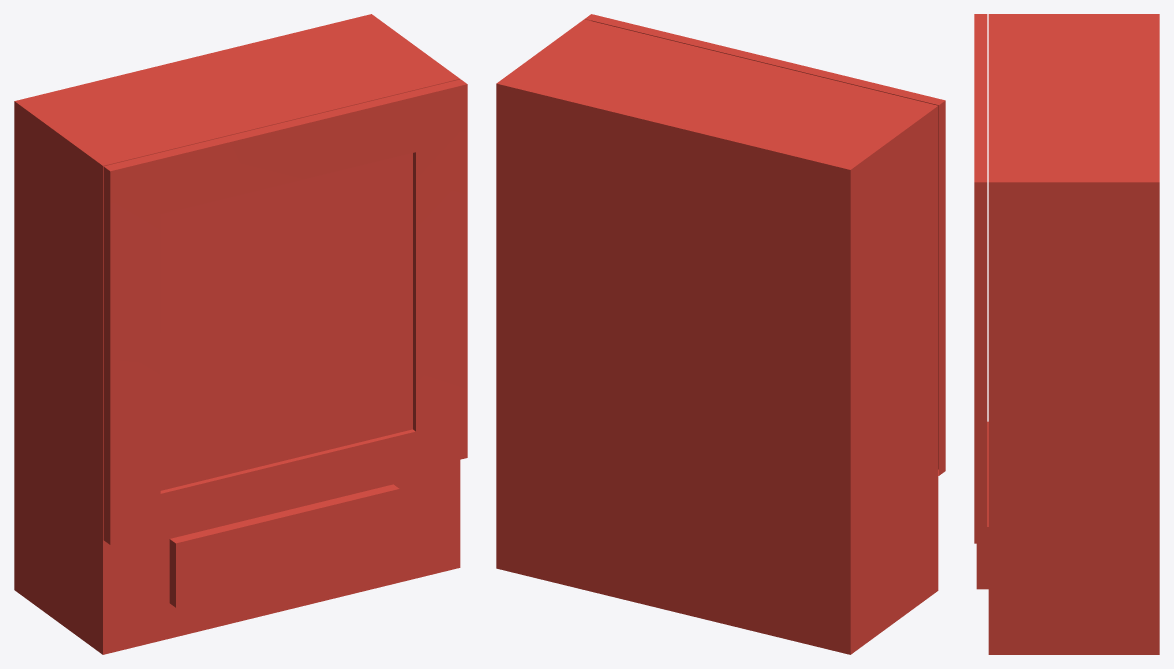
Rendered from Nevera_low.fbx.
3 views of the same model, side by side, from view 1: azimuth 30°, elevation 25°; view 2: azimuth 150°, elevation 25°; view 3: azimuth 270°, elevation 25° (orthographic). The views are drawn at different scales.
Parts seen in each view (by area): view 1: Base_low, Cristal_low, Puerta_low; view 2: Base_low, Puerta_low; view 3: Base_low, Puerta_low.
Part boxes in pixels (left/top/right/bottom): Base_low: left=14, top=14, right=460, bottom=654; Cristal_low: left=160, top=153, right=412, bottom=490; Puerta_low: left=103, top=79, right=467, bottom=544; Base_low: left=496, top=19, right=938, bottom=654; Puerta_low: left=584, top=14, right=945, bottom=475; Base_low: left=976, top=14, right=1159, bottom=654; Puerta_low: left=974, top=14, right=987, bottom=543.
Bounding box in the file's own units: 100 × 131 × 46.49.
